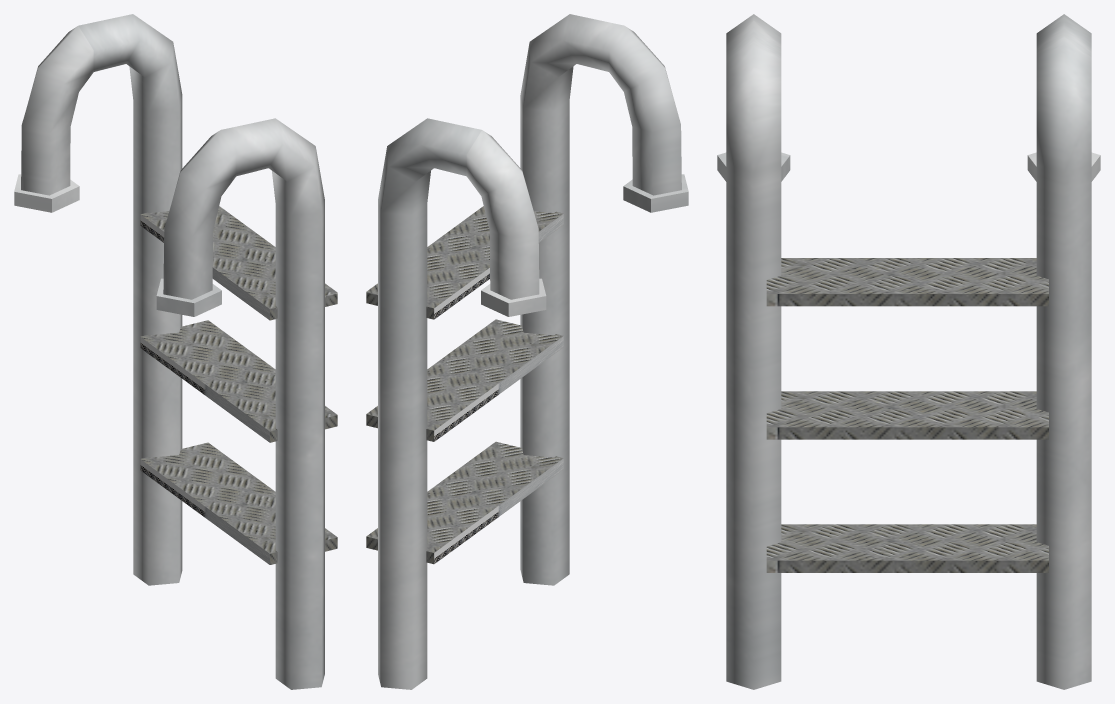
Rendered from Escaleritas.fbx.
The picture shows the model from 3 angles, left to right: view 1: azimuth 30°, elevation 25°; view 2: azimuth 150°, elevation 25°; view 3: azimuth 270°, elevation 25°; orthographic projection. The views are drawn at different scales.
Parts seen in each view (by area): view 1: pCylinder3; view 2: pCylinder3; view 3: pCylinder3.
Boxes of the visible parts, bbox=[...] form: pCylinder3: bbox=[14, 14, 337, 689]; pCylinder3: bbox=[366, 14, 688, 689]; pCylinder3: bbox=[717, 14, 1100, 689].
Bounding box in the file's own units: 1.36 × 3.96 × 2.22.
